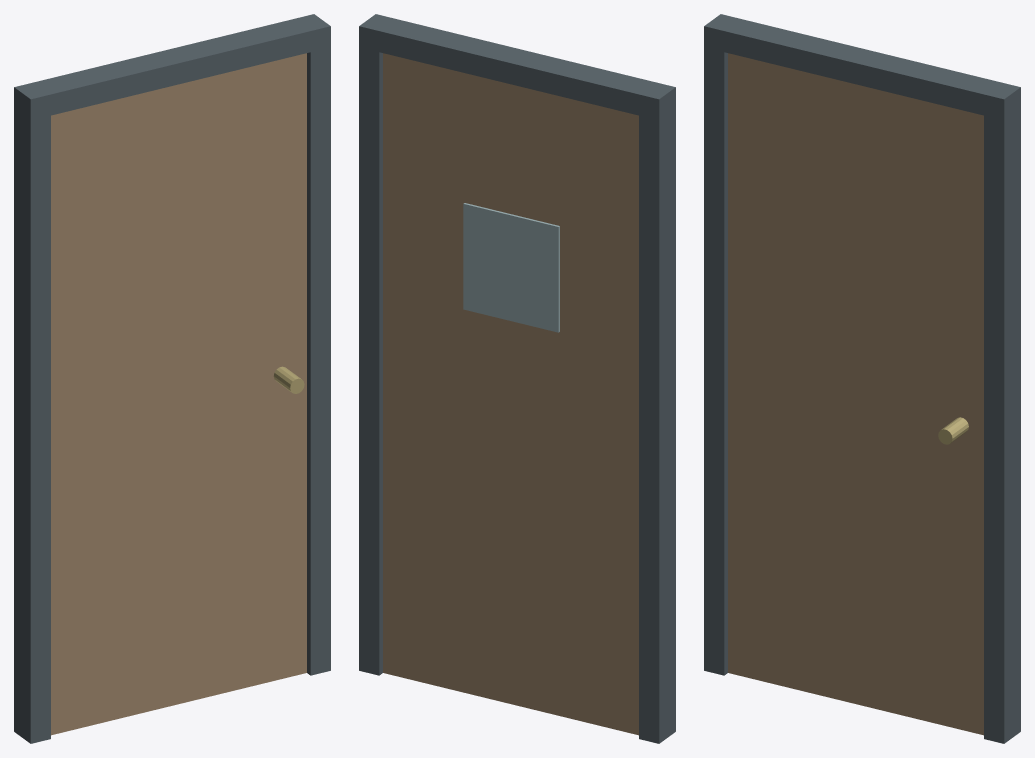
File: COR-001.glb
The picture shows the model from 3 angles, left to right: view 1: azimuth 30°, elevation 25°; view 2: azimuth 150°, elevation 25°; view 3: azimuth 330°, elevation 25°; orthographic projection.
Visible parts, largest first — view 1: 000_Door_slab, 001_Hinge_side_frame, 002_Latch_side_frame, 003_Top_lintel, 005_Round_door_handle; view 2: 000_Door_slab, 001_Hinge_side_frame, 002_Latch_side_frame, 003_Top_lintel, 004_Door_vision_glass; view 3: 000_Door_slab, 002_Latch_side_frame, 001_Hinge_side_frame, 003_Top_lintel, 005_Round_door_handle.
Boxes of the visible parts, x1,y1,x2,y2 form: 000_Door_slab: [51, 53, 306, 735]; 001_Hinge_side_frame: [14, 98, 50, 743]; 002_Latch_side_frame: [307, 37, 330, 675]; 003_Top_lintel: [14, 14, 330, 119]; 005_Round_door_handle: [273, 366, 304, 393]; 000_Door_slab: [383, 53, 638, 735]; 001_Hinge_side_frame: [639, 98, 675, 743]; 002_Latch_side_frame: [359, 37, 382, 675]; 003_Top_lintel: [359, 14, 675, 120]; 004_Door_vision_glass: [463, 203, 559, 332]; 000_Door_slab: [728, 53, 983, 735]; 002_Latch_side_frame: [984, 98, 1020, 743]; 001_Hinge_side_frame: [704, 37, 727, 675]; 003_Top_lintel: [704, 14, 1020, 119]; 005_Round_door_handle: [938, 417, 968, 444].
Size of the model in its own units: 1.04 by 2.13 by 0.176.
